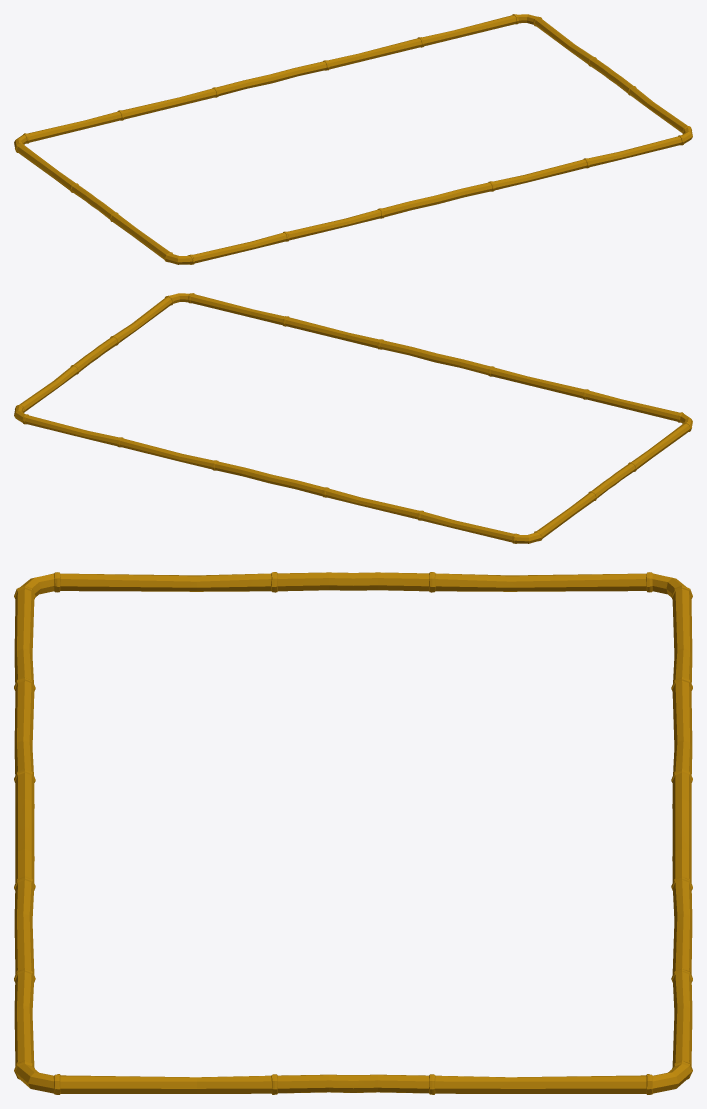
The model's file is obj_pipes.gltf.
3 renders of one model, top to bottom at view 1: azimuth 30°, elevation 25°; view 2: azimuth 150°, elevation 25°; view 3: azimuth 270°, elevation 25°, orthographic. The views are drawn at different scales.
Parts seen in each view (by area): view 1: obj_pipes; view 2: obj_pipes; view 3: obj_pipes.
Boxes of the visible parts, x1,y1,x2,y2 form: obj_pipes: (14,14,692,264); obj_pipes: (14,293,692,543); obj_pipes: (14,572,692,1094).
Size of what is drawn, in the model's own units: 14.42 by 0.2598 by 8.09.
Materials: 1 (1 with a texture image).
